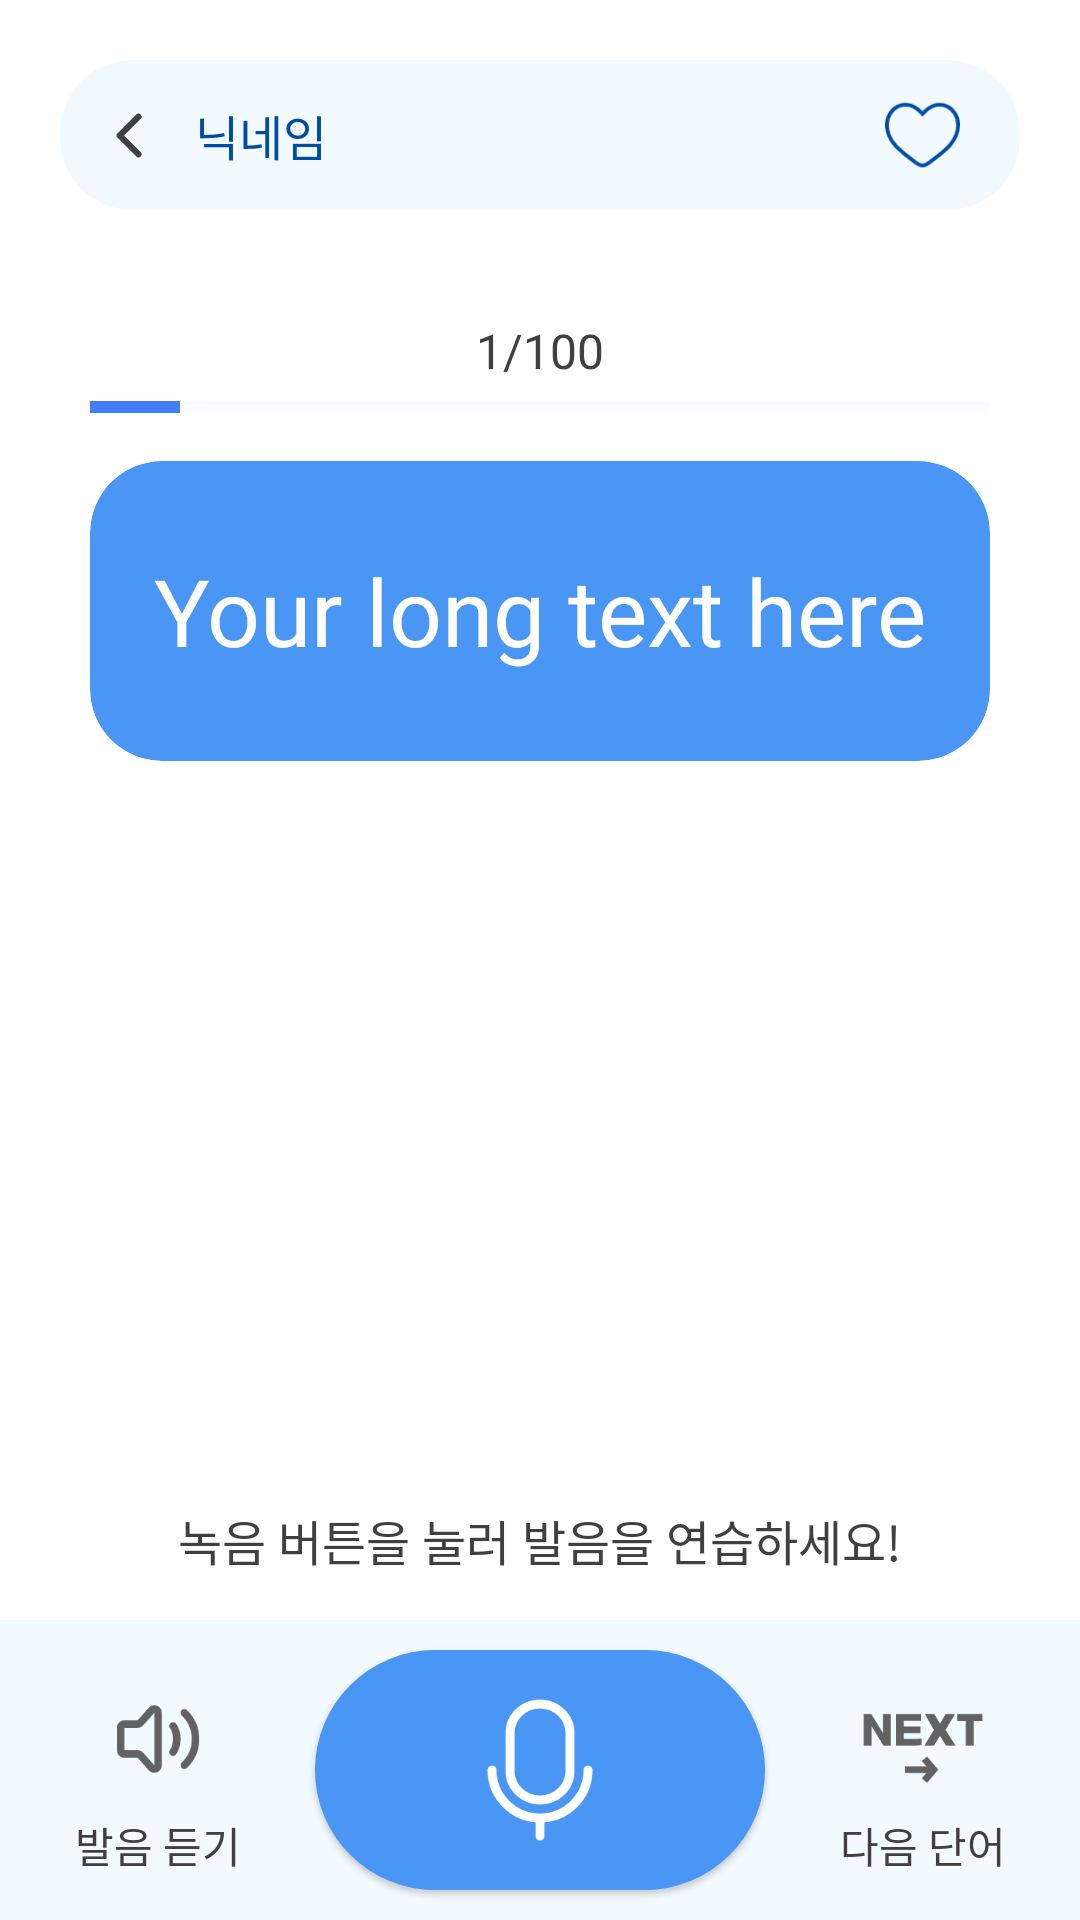

Named icons in this screenshot (1080×1920) and their bounding boxes, (x1=x1, y1=y1, x2=x2, y2=y2):
back: (x1=116, y1=113, x2=142, y2=158)
like heart: (x1=885, y1=102, x2=960, y2=168)
listen: (x1=117, y1=1705, x2=199, y2=1773)
